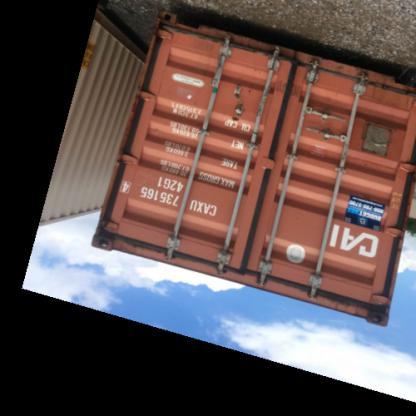Damage: (155, 18, 299, 70), (305, 53, 411, 103), (272, 78, 304, 108)
